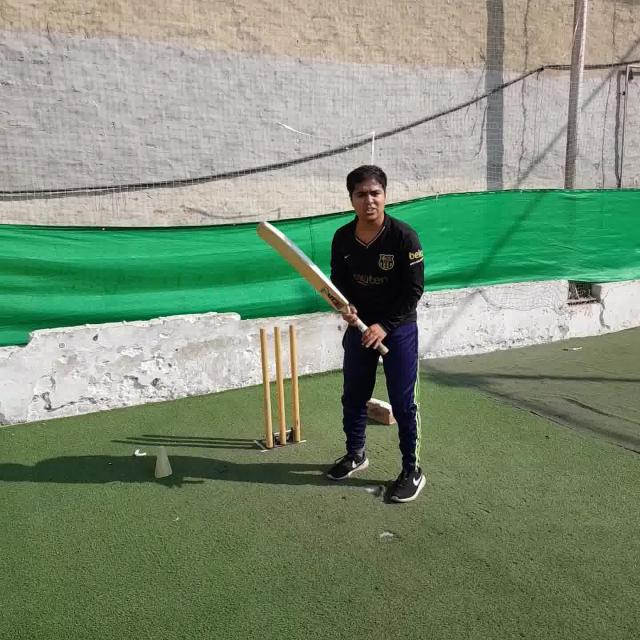bat: (257, 221, 390, 353)
